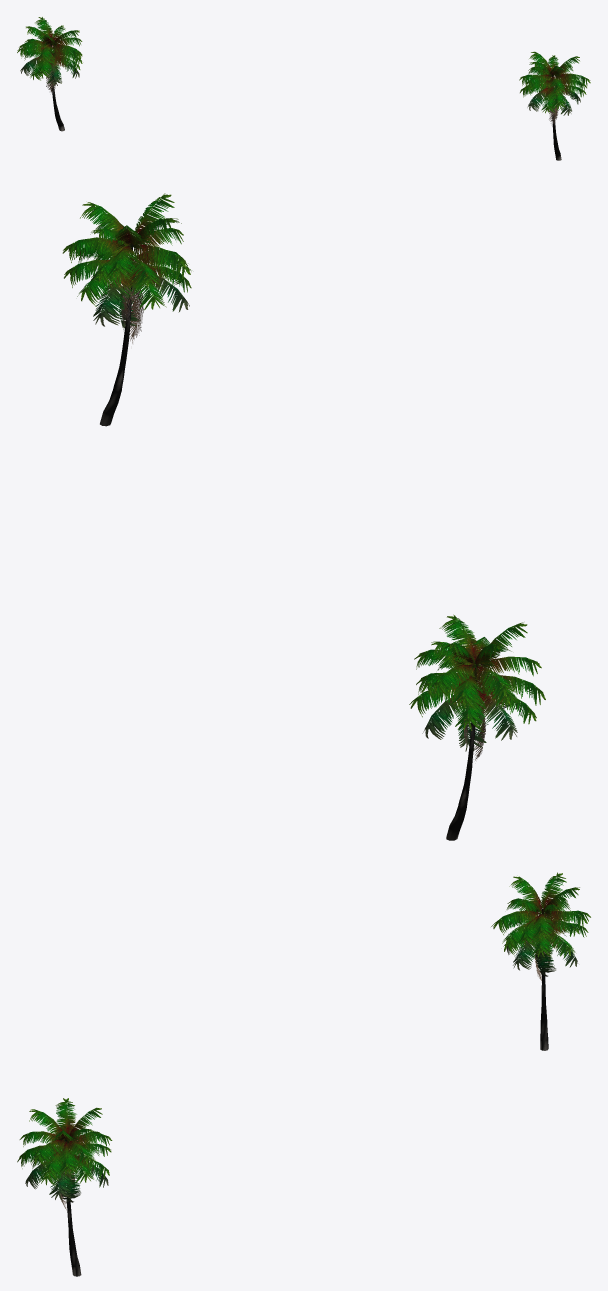
The model's file is coast-2-2.glb.
3 views of the same model, one above another, from view 1: azimuth 30°, elevation 25°; view 2: azimuth 150°, elevation 25°; view 3: azimuth 270°, elevation 25° (orthographic). The views are drawn at different scales.
Visible parts, largest first — view 1: coast-2-2; view 2: coast-2-2; view 3: coast-2-2.
Part boxes in pixels (x1=…): coast-2-2: x1=17, y1=17, x2=590, y2=160; coast-2-2: x1=62, y1=193, x2=545, y2=840; coast-2-2: x1=17, y1=872, x2=590, y2=1276.
Bounding box in the file's own units: 38.64 × 10.82 × 34.02.
8 materials, 8 textured.
